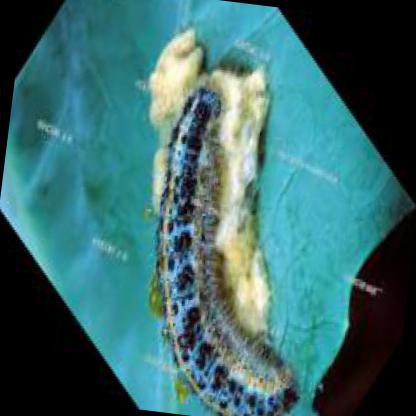pieris: (156, 74, 296, 416)
